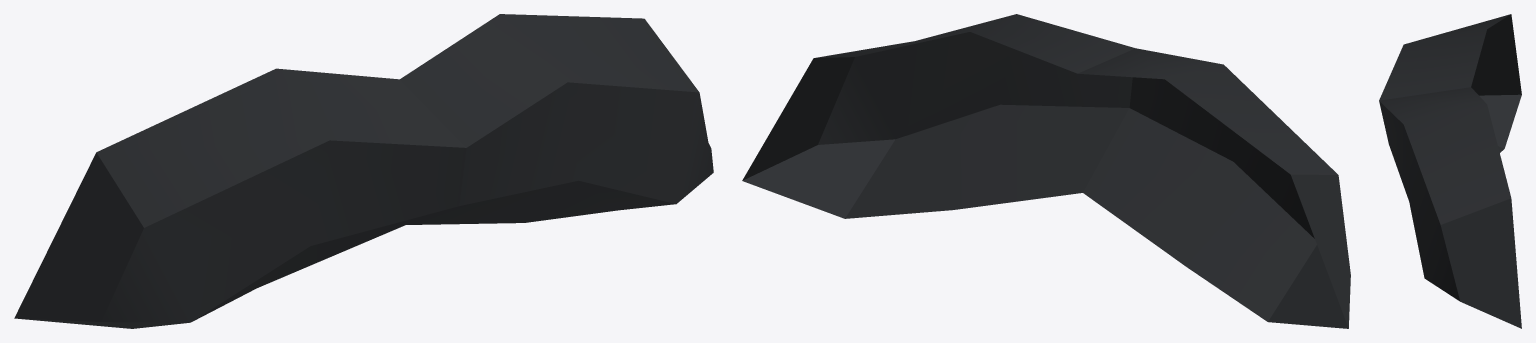
Rendered from SM_Chr_Attach_Mustache_01.fbx.
3 renders of one model, left to right at view 1: azimuth 30°, elevation 25°; view 2: azimuth 150°, elevation 25°; view 3: azimuth 270°, elevation 25°, orthographic. The views are drawn at different scales.
Visible parts, largest first — view 1: SM_Chr_Attach_Mustache_01; view 2: SM_Chr_Attach_Mustache_01; view 3: SM_Chr_Attach_Mustache_01.
Part boxes in pixels (x1,y1,x2,y2): SM_Chr_Attach_Mustache_01: (14,14,713,328); SM_Chr_Attach_Mustache_01: (742,14,1350,328); SM_Chr_Attach_Mustache_01: (1379,14,1521,328).
Bounding box in the file's own units: 14.5 × 4.72 × 3.74.
